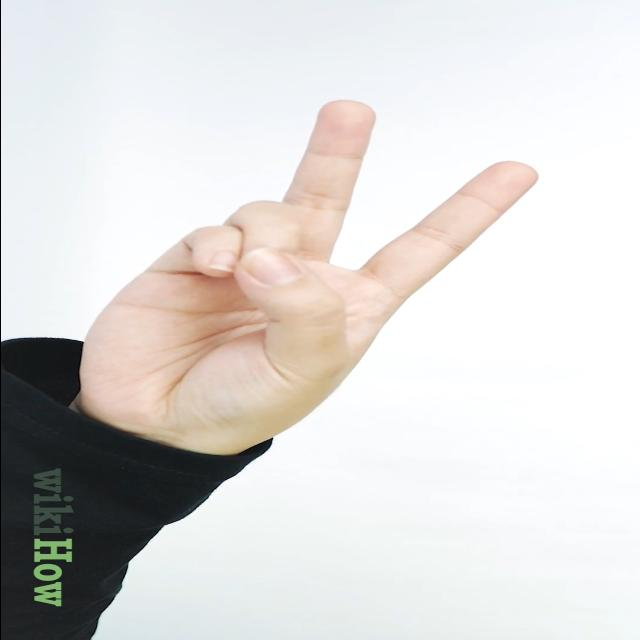Scissors: (73, 97, 537, 448)
